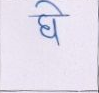e_matra: (34, 1, 66, 13)
